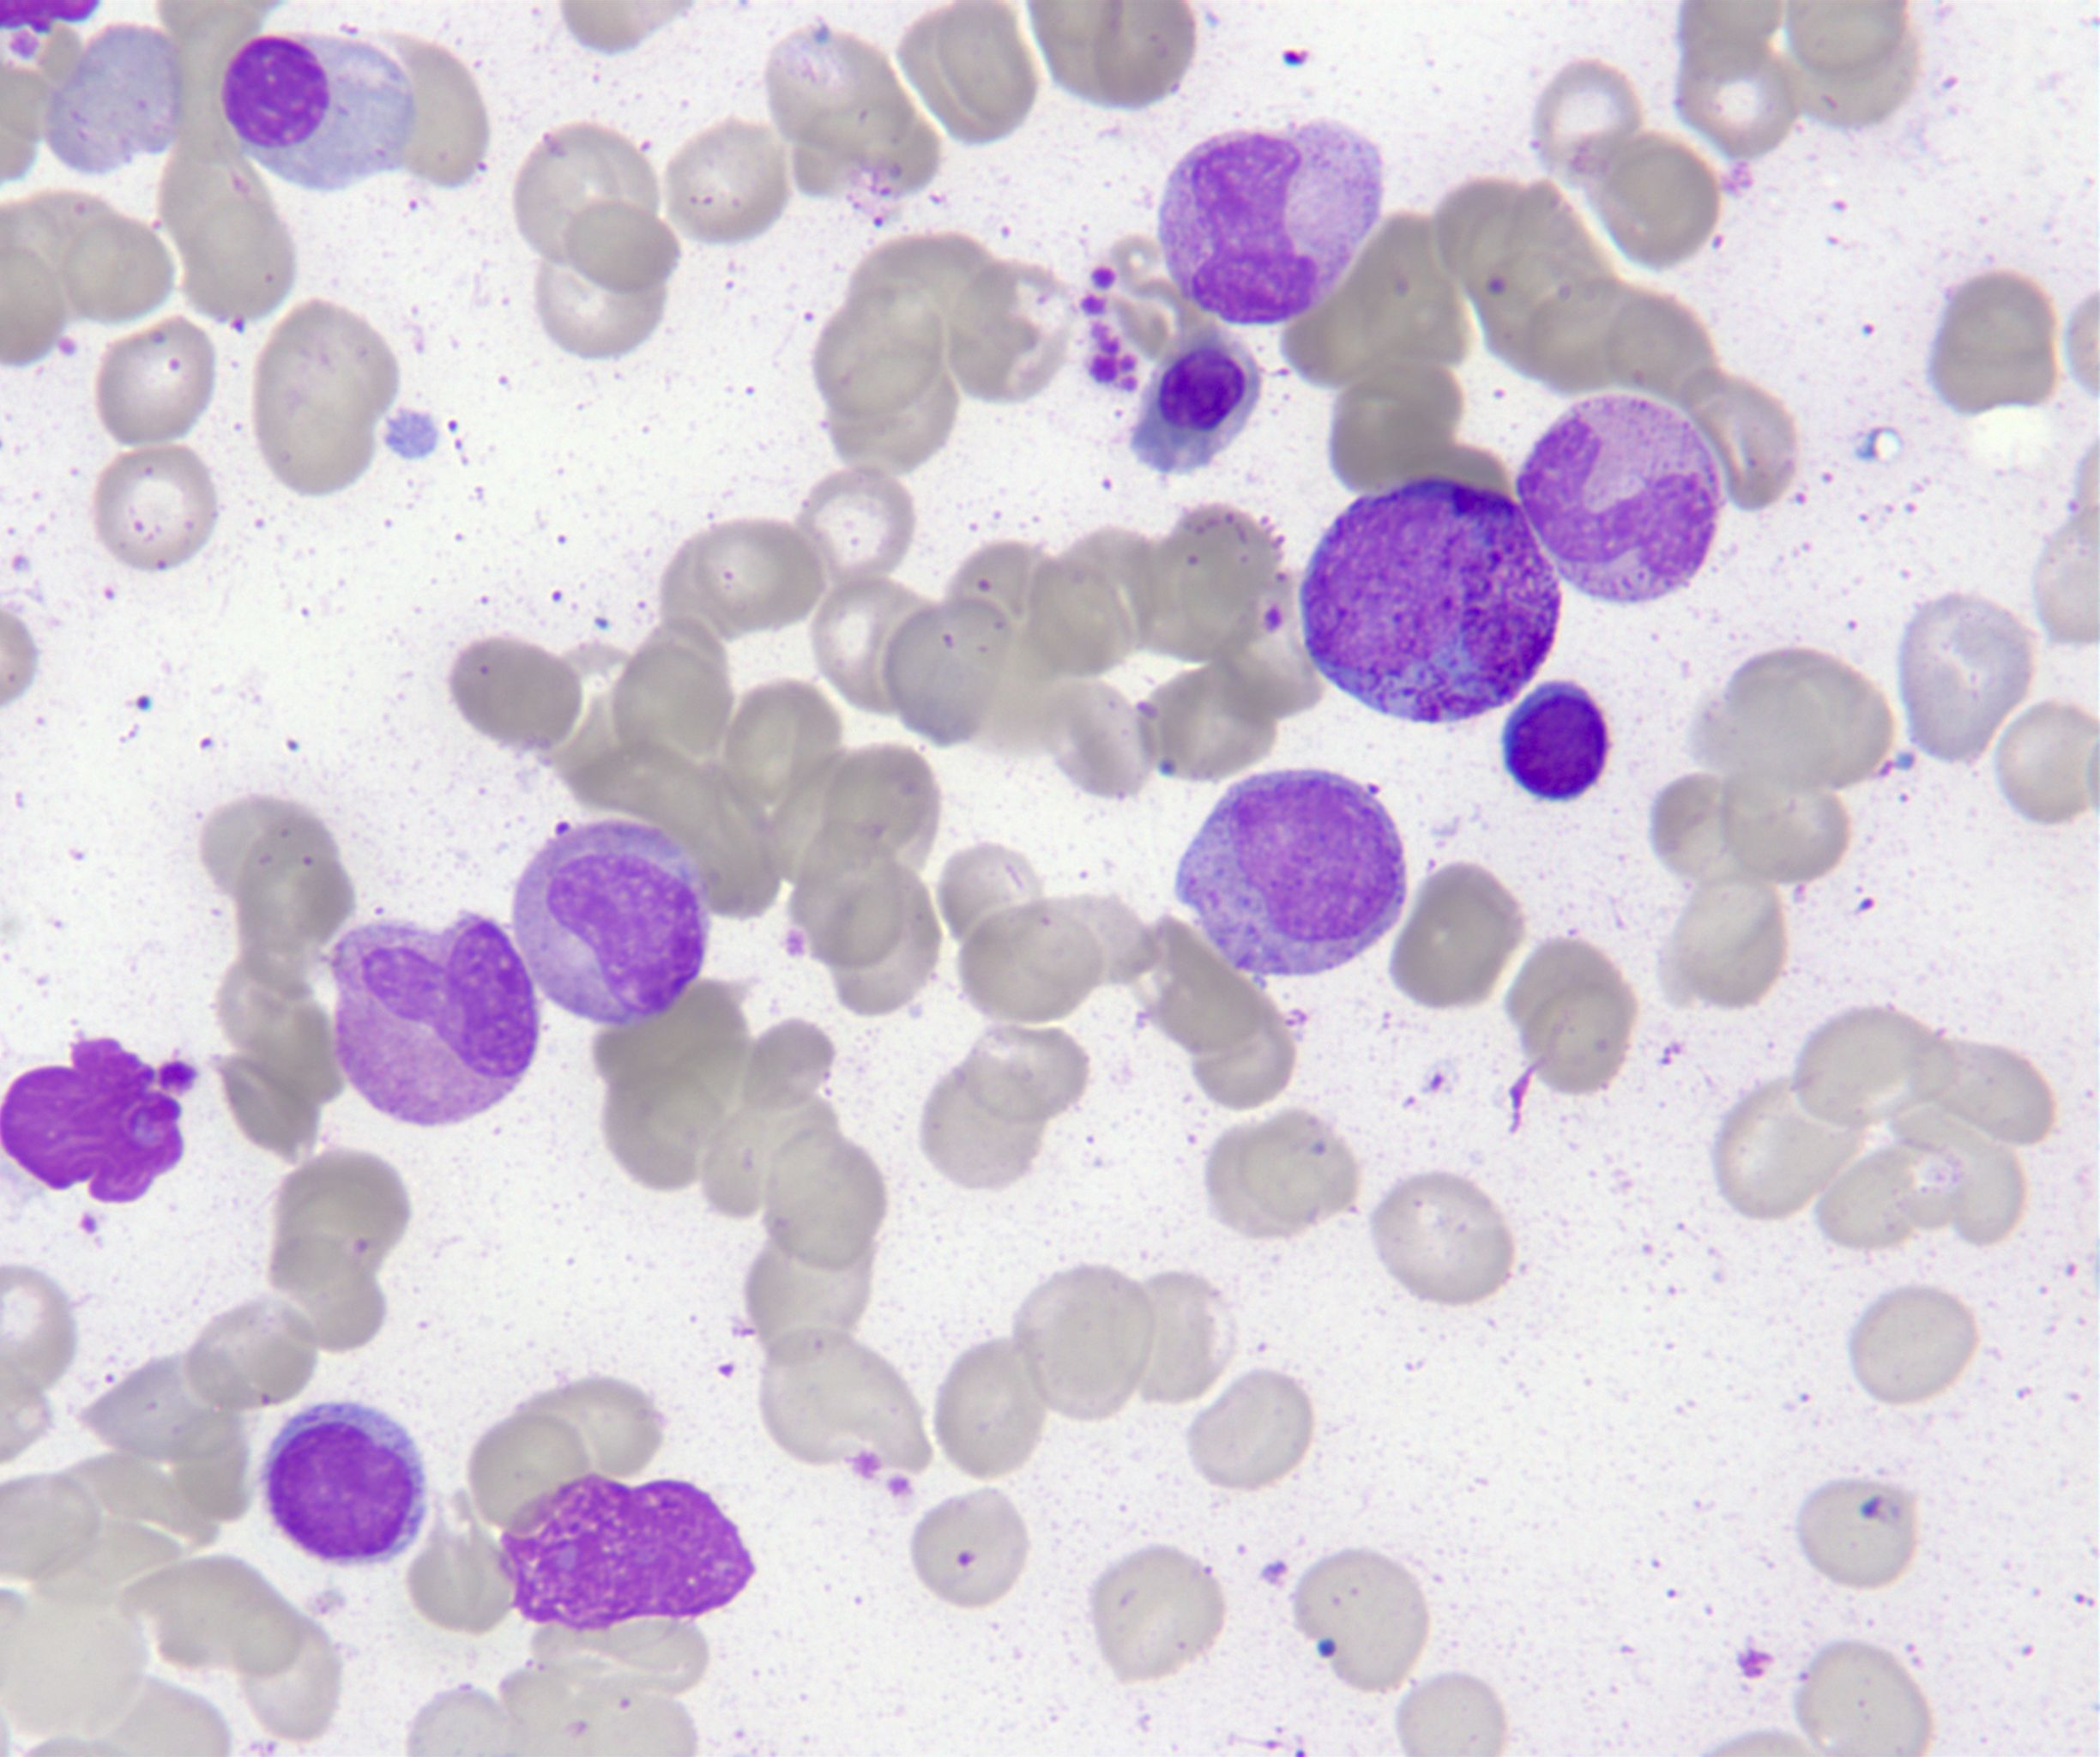2: (1298, 478, 1563, 722)
24: (222, 37, 412, 190), (1128, 326, 1259, 475)
3: (1172, 769, 1408, 975)
32: (262, 1401, 427, 1565), (1505, 682, 1608, 801)
4: (1160, 119, 1383, 328), (515, 820, 710, 1024)
5: (324, 914, 539, 1127), (1517, 394, 1718, 605)
x: (499, 1474, 755, 1631), (2, 1040, 185, 1202)
